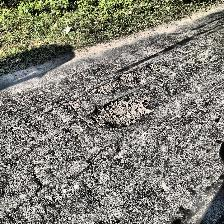pothole: (86, 94, 152, 128), (93, 72, 143, 94), (146, 62, 166, 74)
